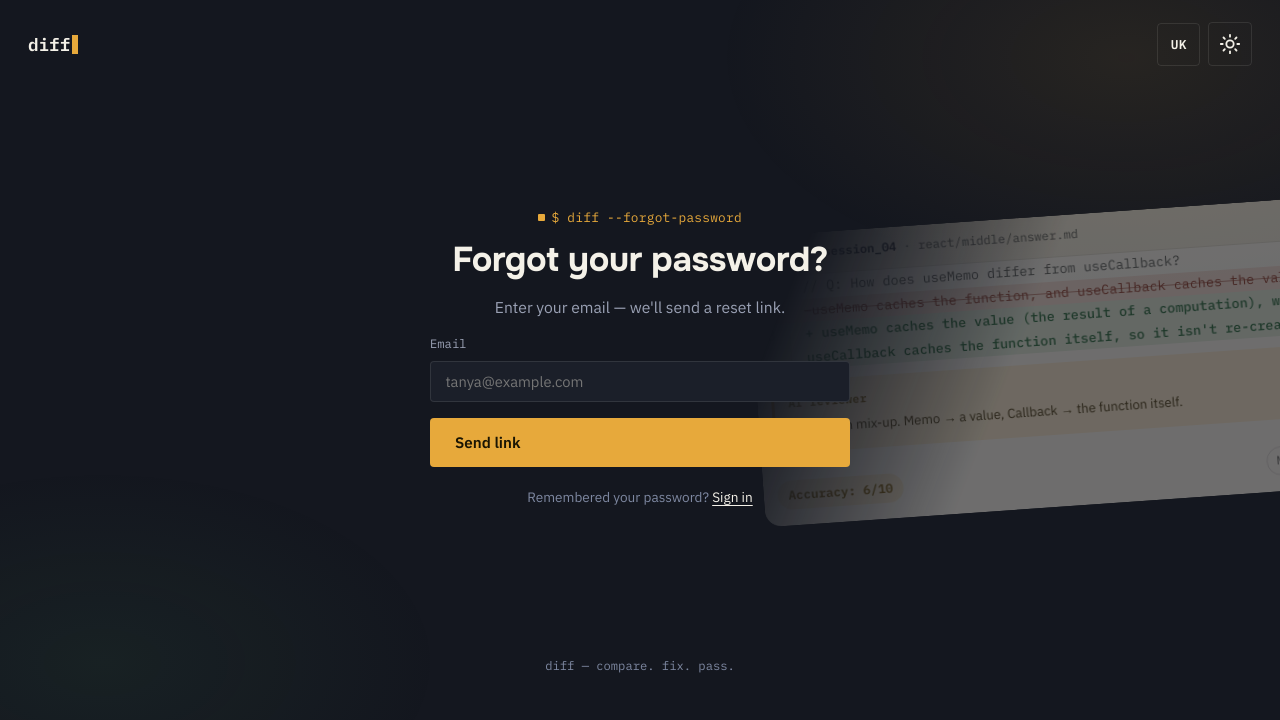
it: ResetPasswordPage i18n › shows a generic error when the request fails for any other reason
The width and height of the screenshot is (1280, 720).
Type "a@b.co" into the field labelled "Email" at (640, 381), box [430,361,850,402]
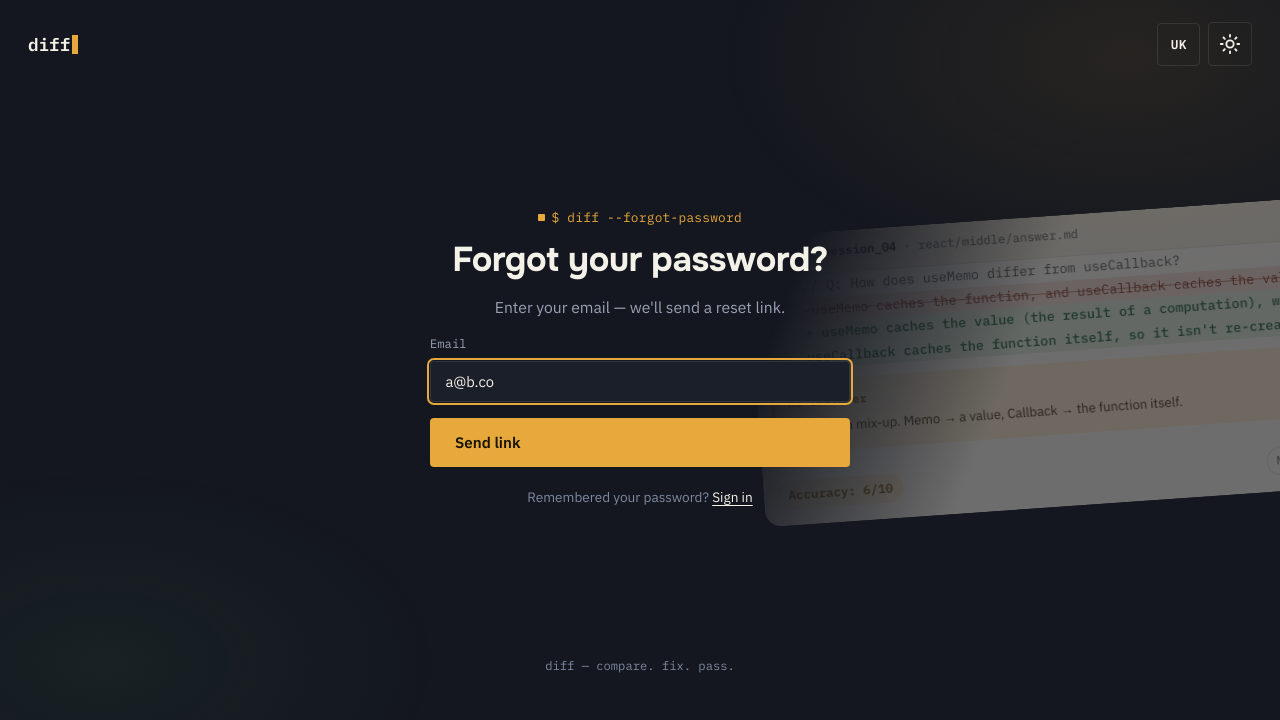
Click the button "Send link" at (488, 442), box [430,418,850,467]
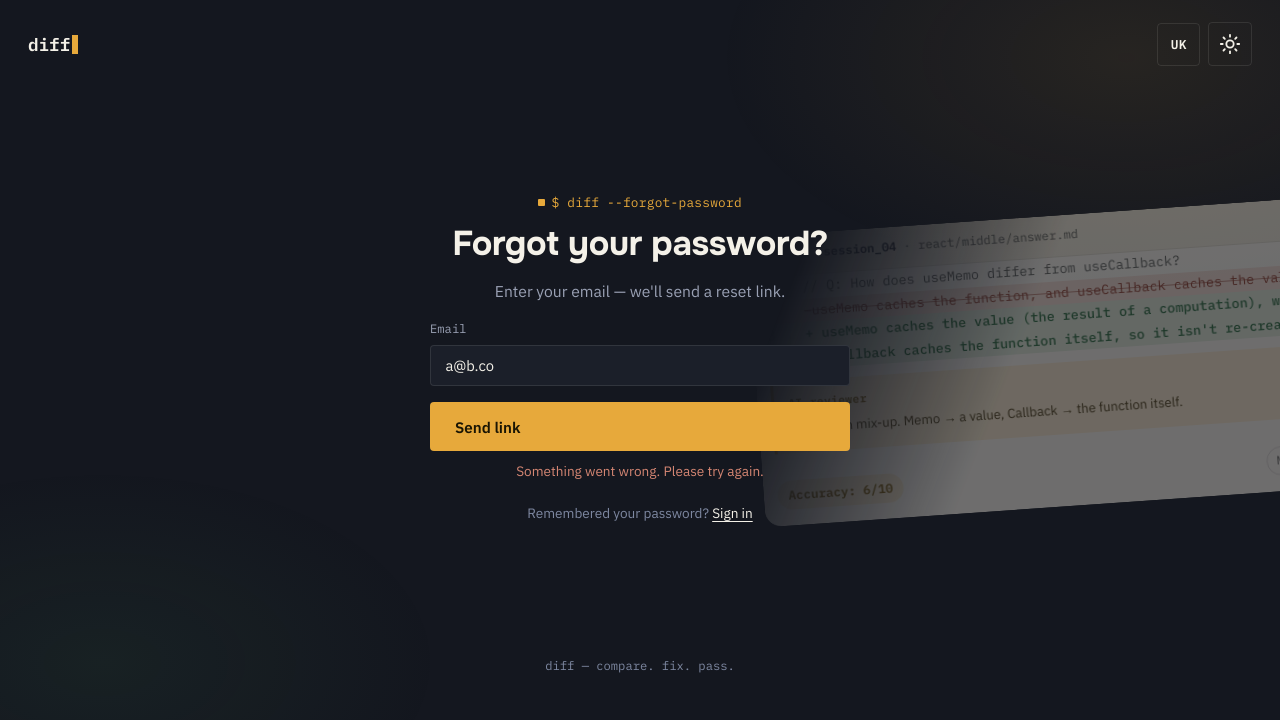
Expected: the text "Something went wrong. Please try again." is shown, [516,462,764,480]
